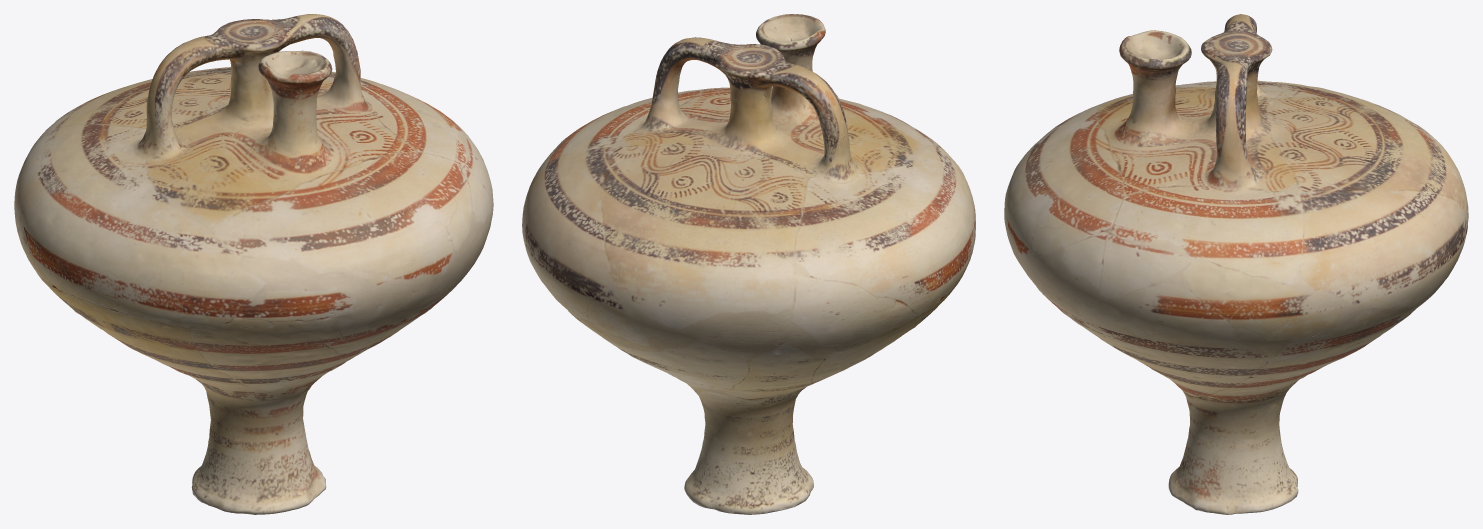
The model's file is Amforeas1.fbx.
3 views of the same model, side by side, from view 1: azimuth 30°, elevation 25°; view 2: azimuth 150°, elevation 25°; view 3: azimuth 270°, elevation 25° (orthographic). The views are drawn at different scales.
Parts seen in each view (by area): view 1: Amforeas1-Sony; view 2: Amforeas1-Sony; view 3: Amforeas1-Sony.
Boxes of the visible parts, x1,y1,x2,y2 form: Amforeas1-Sony: (14, 14, 493, 514); Amforeas1-Sony: (522, 14, 975, 514); Amforeas1-Sony: (1004, 14, 1468, 514).
Size of the model in its own units: 16.08 by 16.01 by 16.93.
1 material, 1 textured.
